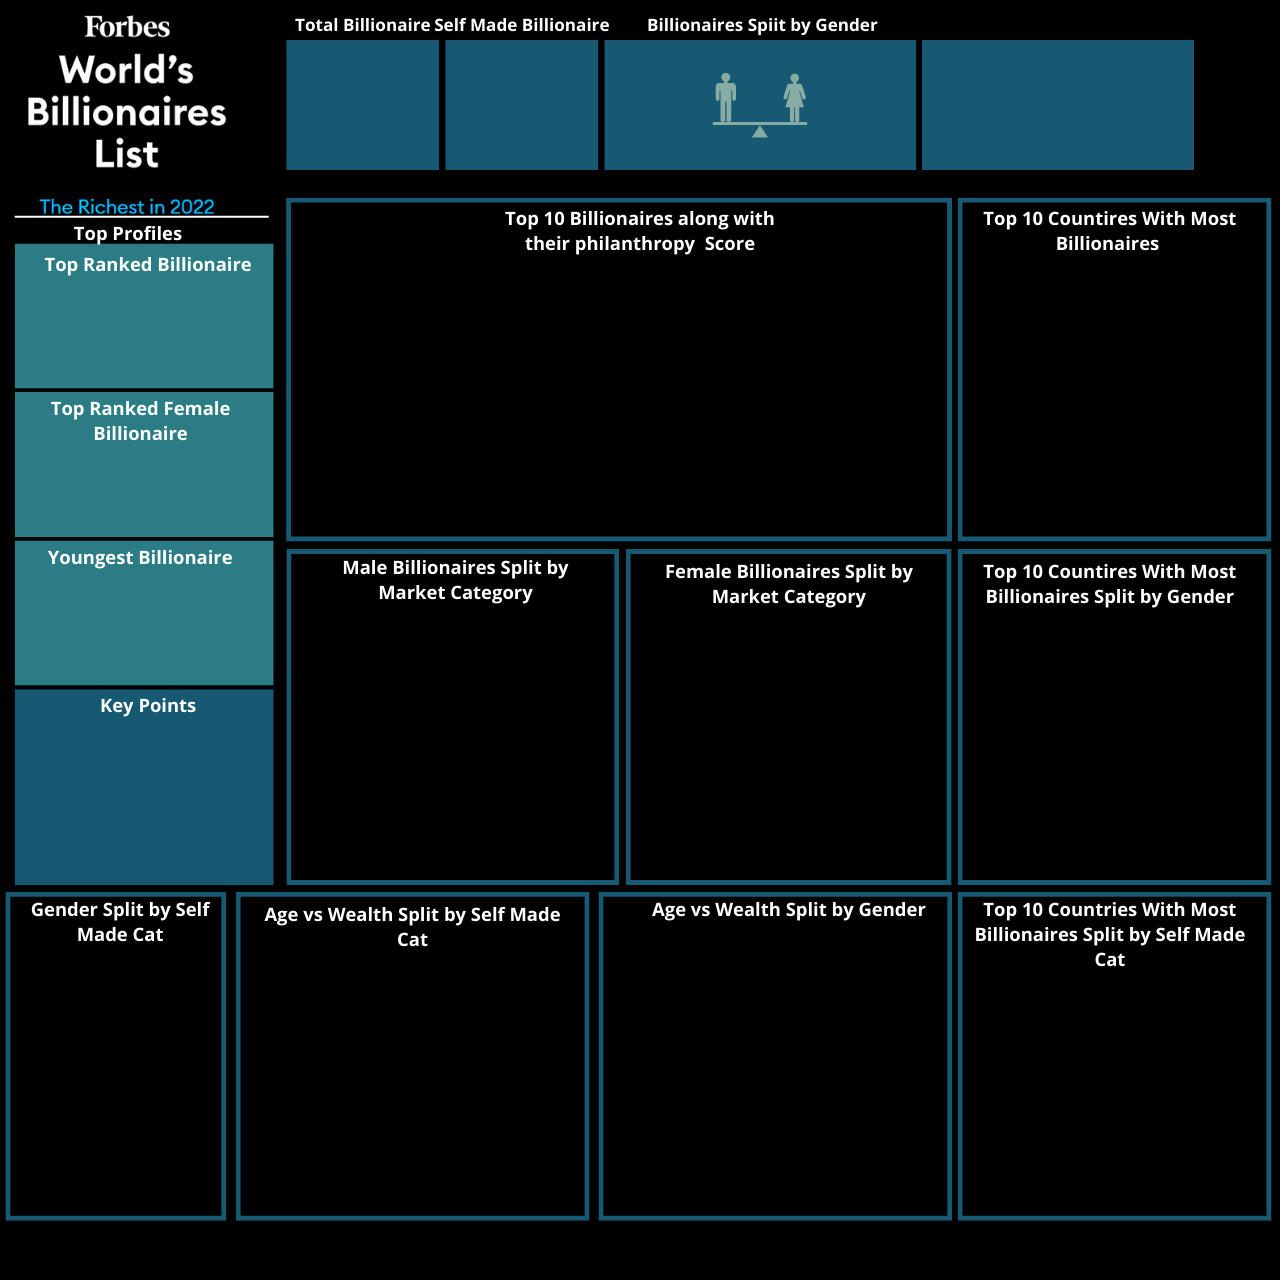

The page's visual inventory and layout, read from the dashboard file:
{"tool":"powerbi","page":{"name":"Page 3","canvas":[1280,1280],"ordinal":0},"visuals":[{"type":"card","fields":{"Values":["Forbes World's Billionaires List 2022 (2).personName"]},"box":[296,47,135,110],"z":0},{"type":"card","fields":{"Values":["Forbes World's Billionaires List 2022 (2).personName"]},"box":[455,47,135,110],"z":1000},{"type":"card","fields":{"Values":["Forbes World's Billionaires List 2022 (2).personName"]},"box":[590,78,135,110],"z":2000},{"type":"card","fields":{"Values":["Forbes World's Billionaires List 2022 (2).personName"]},"box":[787.8,77.8,135.8,110.3],"z":3000},{"type":"card","fields":{"Values":["Measure Table.% GDP of world"]},"box":[934,58,99,75],"z":4000},{"type":"textbox","box":[1018,58,184,90],"z":5000},{"type":"lineClusteredColumnComboChart","fields":{"Category":["Forbes World's Billionaires List 2022 (2).personName"],"Y2":["Measure Table.philanthropy Score"],"Y":["Measure Table.Total Worth"]},"box":[357,252,566,267],"z":6000},{"type":"clusteredBarChart","fields":{"Category":["Forbes World's Billionaires List 2022 (2).country"],"Y":["Forbes World's Billionaires List 2022 (2).country"]},"box":[966,252,294,275],"z":7000},{"type":"treemap","title":"Top 5 Categories for Women","fields":{"Group":["Forbes World's Billionaires List 2022 (2).category"],"Values":["Forbes World's Billionaires List 2022 (2).category"]},"box":[295.8,602.4,310.2,268.4],"z":8000},{"type":"treemap","title":"Top Five Categories for Men","fields":{"Group":["Forbes World's Billionaires List 2022 (2).category"],"Values":["Forbes World's Billionaires List 2022 (2).category"]},"box":[635.8,603.6,304.2,269.6],"z":9000},{"type":"hundredPercentStackedBarChart","fields":{"Category":["Forbes World's Billionaires List 2022 (2).country"],"Y":["Forbes World's Billionaires List 2022 (2).country"],"Series":["Forbes World's Billionaires List 2022 (2).selfMade"]},"box":[967.4,960.4,284.3,264.5],"z":10000},{"type":"hundredPercentStackedBarChart","fields":{"Category":["Forbes World's Billionaires List 2022 (2).country"],"Y":["Forbes World's Billionaires List 2022 (2).country"],"Series":["Forbes World's Billionaires List 2022 (2).gender"]},"box":[966,603,290,271],"z":11000},{"type":"hundredPercentStackedColumnChart","fields":{"Category":["Forbes World's Billionaires List 2022 (2).gender"],"Y":["Forbes World's Billionaires List 2022 (2).selfMade"],"Series":["Forbes World's Billionaires List 2022 (2).selfMade"]},"box":[28.3,937.7,236.2,273],"z":12000},{"type":"stackedAreaChart","fields":{"Category":["Forbes World's Billionaires List 2022 (2).age"],"Series":["Forbes World's Billionaires List 2022 (2).gender"],"Y":["Measure Table.Total Worth"]},"box":[606,942.4,334,277.9],"z":13000},{"type":"stackedAreaChart","fields":{"Category":["Forbes World's Billionaires List 2022 (2).age"],"Series":["Forbes World's Billionaires List 2022 (2).selfMade"],"Y":["Measure Table.Total Worth"]},"box":[236.2,951.9,353.1,268.4],"z":14000},{"type":"textbox","box":[15.6,287.1,248.9,89.1],"z":15000},{"type":"textbox","box":[15.6,444.1,268.7,107.5],"z":16000},{"type":"textbox","box":[973.1,830.2,21.2,28.3],"z":17000},{"type":"textbox","box":[973.1,801.9,21.2,28.3],"z":18000},{"type":"textbox","box":[615.2,973.1,21.2,28.3],"z":18001},{"type":"textbox","box":[615.2,944.8,21.2,28.3],"z":18002},{"type":"textbox","box":[253.2,951.9,103.2,28.3],"z":18003},{"type":"textbox","box":[253.2,980.2,103.2,28.3],"z":18004},{"type":"textbox","box":[14.1,937.7,50.9,49.5],"z":18005},{"type":"textbox","box":[15.6,987.2,49.5,75],"z":18006},{"type":"textbox","box":[968.8,942,103.2,28.3],"z":18007},{"type":"textbox","box":[1152.7,942,103.2,28.3],"z":18008},{"type":"textbox","box":[15.6,570,248.9,107.5],"z":18009},{"type":"textbox","box":[3.7,722.7,272.1,147.7],"z":18010}]}

Visuals, with their boxes in screenshot pixels (x1, y1, x2, y2), scaled from the page's 1280x1280 canvas onto the 1280x1280 screenshot:
card - Forbes World's Billionaires List 2022 (2).personName: crop(296, 47, 431, 157)
card - Forbes World's Billionaires List 2022 (2).personName: crop(455, 47, 590, 157)
card - Forbes World's Billionaires List 2022 (2).personName: crop(590, 78, 725, 188)
card - Forbes World's Billionaires List 2022 (2).personName: crop(788, 78, 924, 188)
card - Measure Table.% GDP of world: crop(934, 58, 1033, 133)
textbox: crop(1018, 58, 1202, 148)
lineClusteredColumnComboChart - Forbes World's Billionaires List 2022 (2).personName x Measure Table.philanthropy Score: crop(357, 252, 923, 519)
clusteredBarChart - Forbes World's Billionaires List 2022 (2).country x Forbes World's Billionaires List 2022 (2).country: crop(966, 252, 1260, 527)
"Top 5 Categories for Women" treemap: crop(296, 602, 606, 871)
"Top Five Categories for Men" treemap: crop(636, 604, 940, 873)
hundredPercentStackedBarChart - Forbes World's Billionaires List 2022 (2).country x Forbes World's Billionaires List 2022 (2).country: crop(967, 960, 1252, 1225)
hundredPercentStackedBarChart - Forbes World's Billionaires List 2022 (2).country x Forbes World's Billionaires List 2022 (2).country: crop(966, 603, 1256, 874)
hundredPercentStackedColumnChart - Forbes World's Billionaires List 2022 (2).gender x Forbes World's Billionaires List 2022 (2).selfMade: crop(28, 938, 264, 1211)
stackedAreaChart - Forbes World's Billionaires List 2022 (2).age x Forbes World's Billionaires List 2022 (2).gender: crop(606, 942, 940, 1220)
stackedAreaChart - Forbes World's Billionaires List 2022 (2).age x Forbes World's Billionaires List 2022 (2).selfMade: crop(236, 952, 589, 1220)
textbox: crop(16, 287, 264, 376)
textbox: crop(16, 444, 284, 552)
textbox: crop(973, 830, 994, 858)
textbox: crop(973, 802, 994, 830)
textbox: crop(615, 973, 636, 1001)
textbox: crop(615, 945, 636, 973)
textbox: crop(253, 952, 356, 980)
textbox: crop(253, 980, 356, 1008)
textbox: crop(14, 938, 65, 987)
textbox: crop(16, 987, 65, 1062)
textbox: crop(969, 942, 1072, 970)
textbox: crop(1153, 942, 1256, 970)
textbox: crop(16, 570, 264, 678)
textbox: crop(4, 723, 276, 870)
